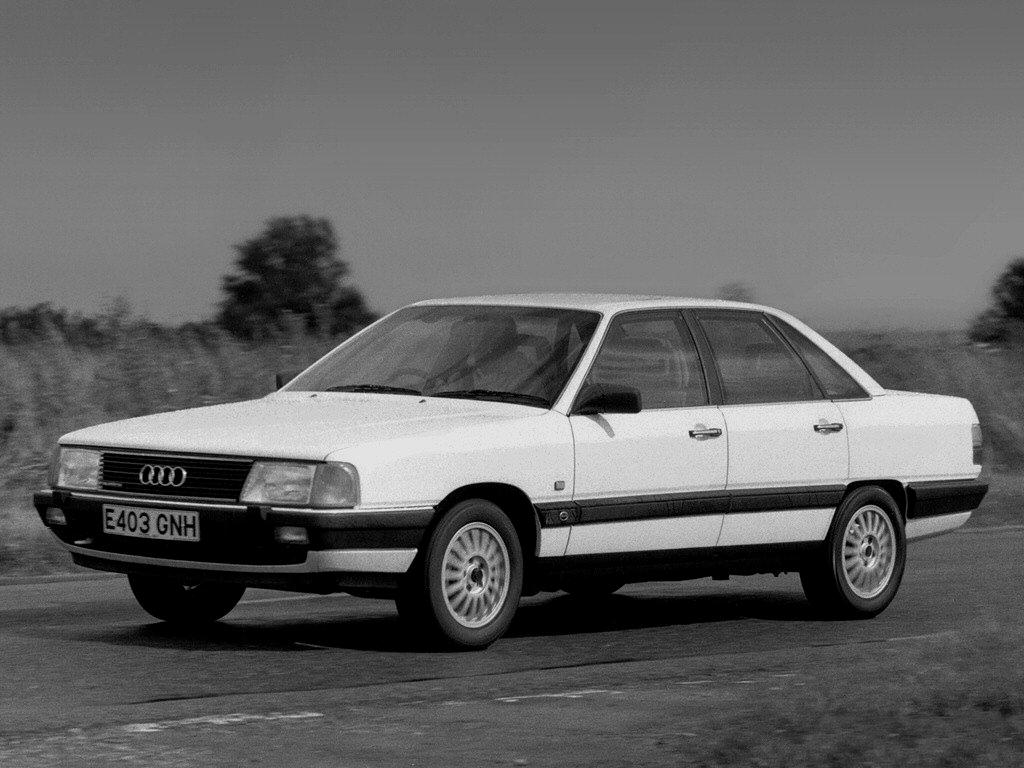Audi: (124, 452, 210, 496)
